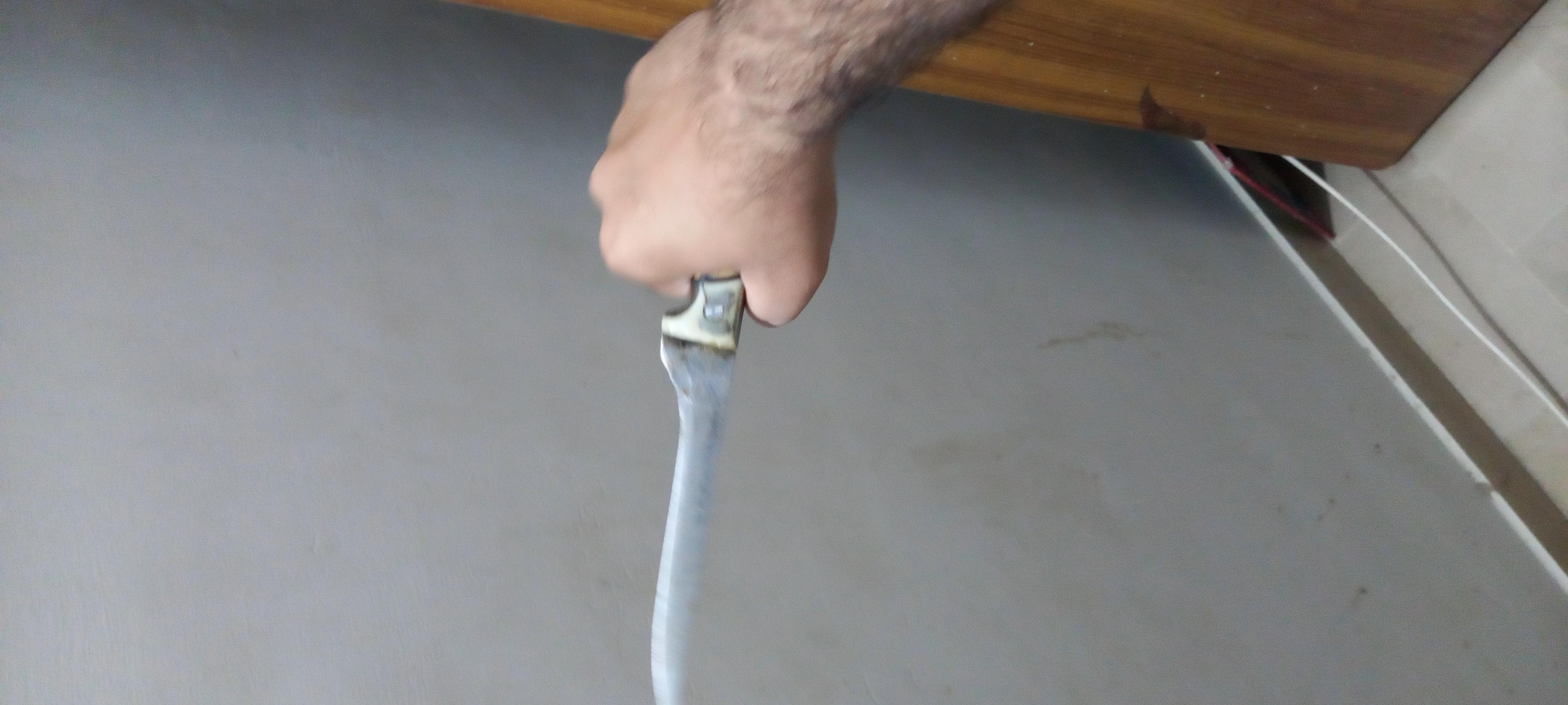knives: (1, 283, 982, 351)
